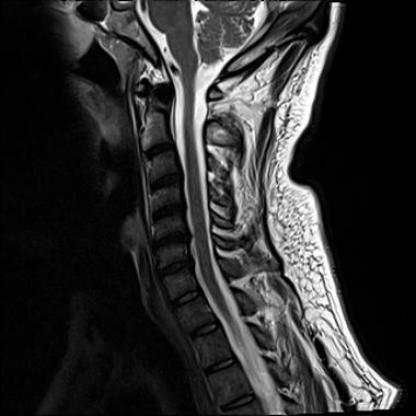Disc Herniationrotation: (147, 172, 185, 191), (147, 203, 188, 219), (151, 232, 189, 248), (159, 261, 193, 276)
Osteophytesrotation: (147, 172, 185, 191), (147, 203, 188, 219), (151, 232, 189, 248), (159, 261, 193, 276)
